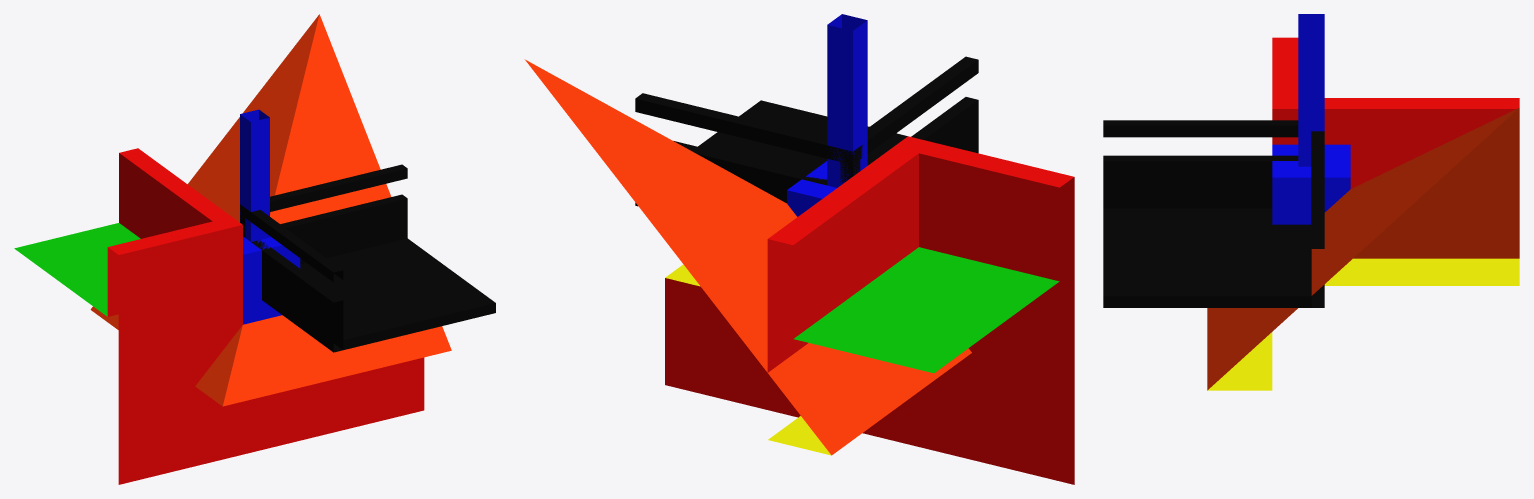
The model's file is None_S_P_E_E_W_E_E_E_BigStrut.fbx.
The picture shows the model from 3 angles, left to right: view 1: azimuth 30°, elevation 25°; view 2: azimuth 150°, elevation 25°; view 3: azimuth 270°, elevation 25°; orthographic projection. The views are drawn at different scales.
Visible parts, largest first — view 1: None_S_P_E_E_W_E_E_E_BigStrut; view 2: None_S_P_E_E_W_E_E_E_BigStrut; view 3: None_S_P_E_E_W_E_E_E_BigStrut.
Boxes of the visible parts, x1=… form: None_S_P_E_E_W_E_E_E_BigStrut: x1=14, y1=14, x2=495, y2=484; None_S_P_E_E_W_E_E_E_BigStrut: x1=524, y1=14, x2=1074, y2=484; None_S_P_E_E_W_E_E_E_BigStrut: x1=1103, y1=14, x2=1519, y2=390.
Bounding box in the file's own units: 100 × 100 × 100.
